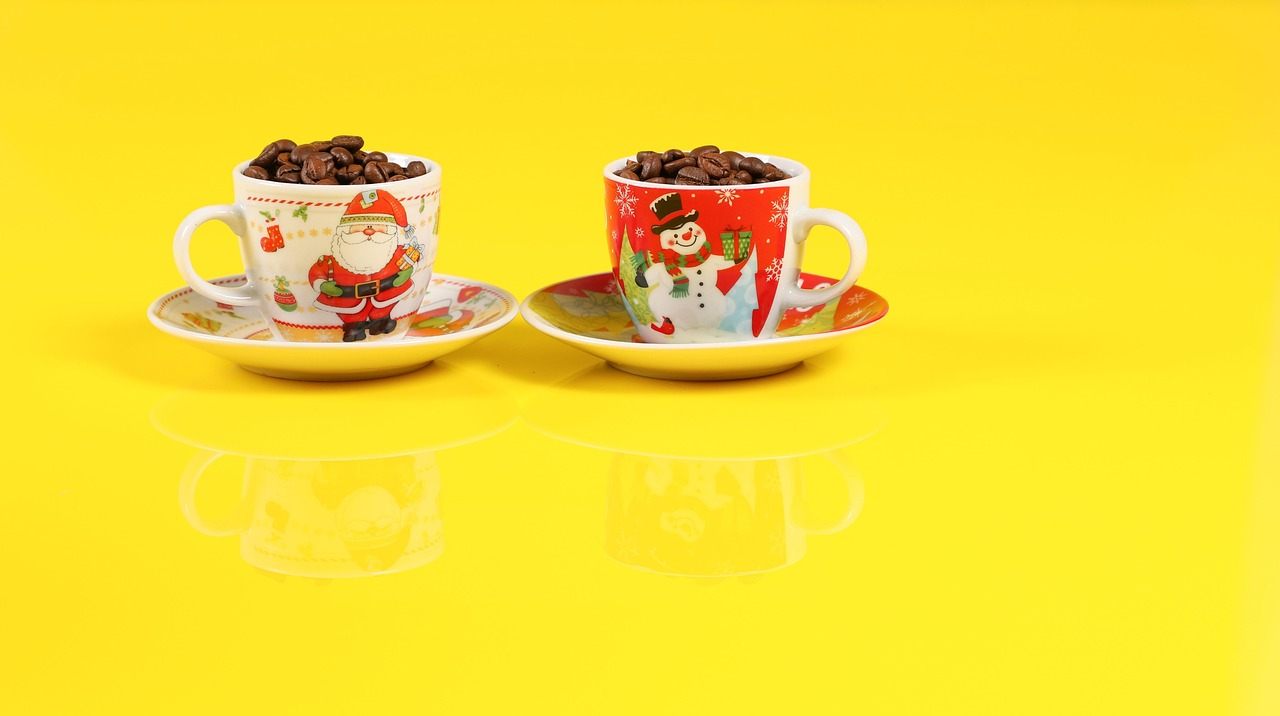mug: (581, 135, 875, 370), (170, 127, 460, 353)
